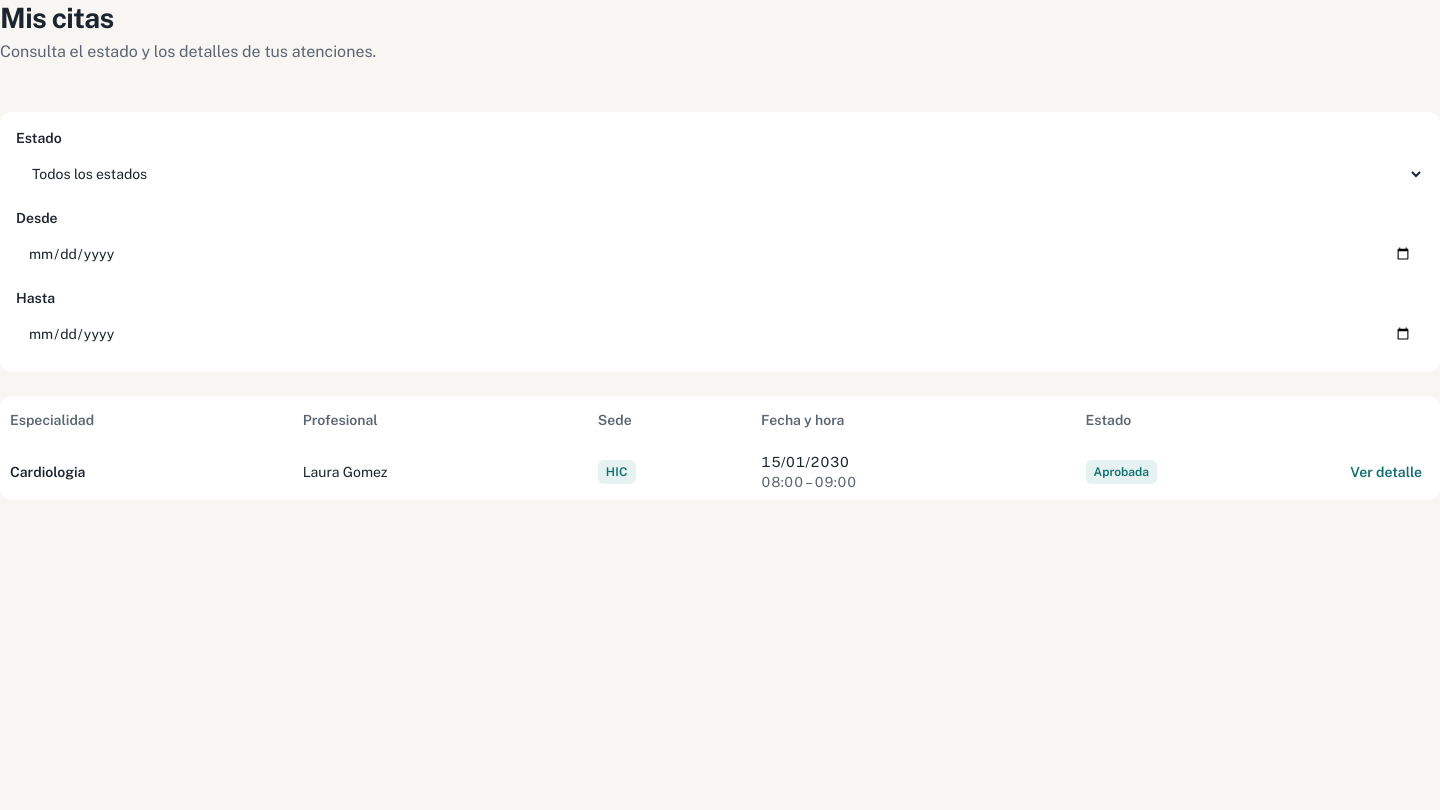
Scenario: MyAppointmentsPage — reprogramación (HU-018) › D-033 una reprogramación cerrada sin decisión se explica al paciente
Click the button with aria-label "Ver detalle de Cardiologia".
click(1386, 472)  # box [1342,452,1430,492]
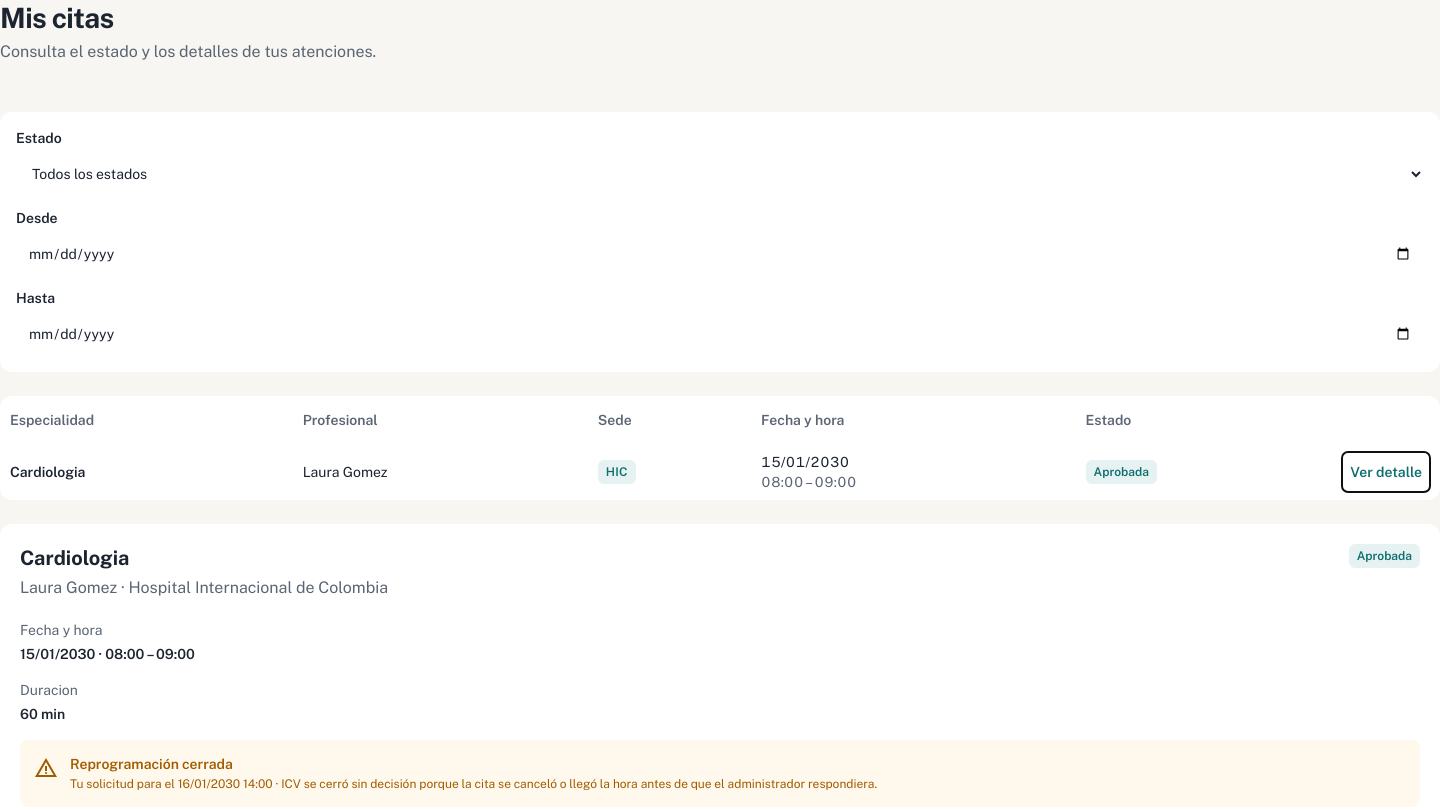
Expected: the text "Reprogramación cerrada" is shown, [70,756,233,772]
Expected: the text "Tu solicitud para el 16/01/2030 14:00 · ICV se cerró sin decisión" is shown, [70,777,877,791]
